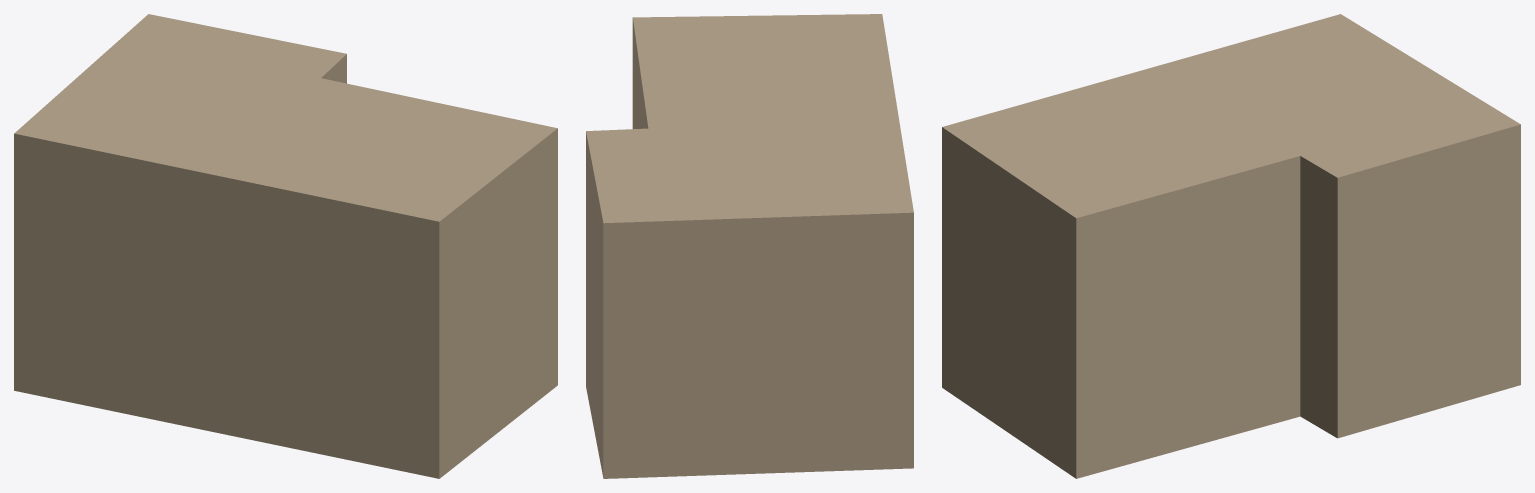
Rendered from bld_106338904.dae.
3 views of the same model, side by side, from view 1: azimuth 30°, elevation 25°; view 2: azimuth 150°, elevation 25°; view 3: azimuth 270°, elevation 25° (orthographic).
Parts seen in each view (by area): view 1: bld_106338904; view 2: bld_106338904; view 3: bld_106338904.
Boxes of the visible parts, bbox=[...] form: bld_106338904: bbox=[14, 14, 557, 478]; bld_106338904: bbox=[586, 14, 913, 478]; bld_106338904: bbox=[942, 14, 1520, 478].
Size of the model in its own units: 13.45 by 16.1 by 8.
